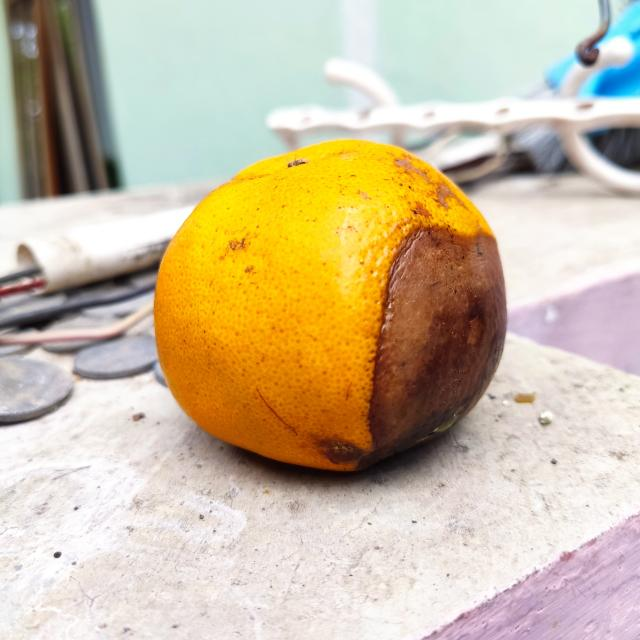orange: (146, 136, 509, 479)
